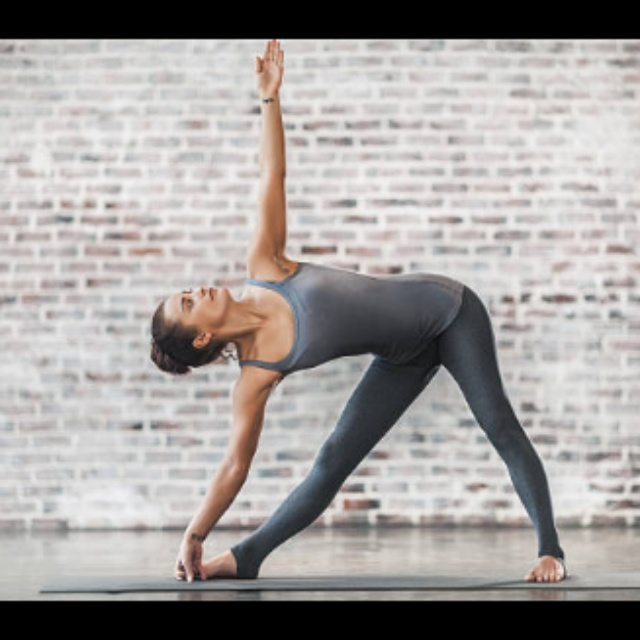Triangle_Pose: (143, 41, 578, 591)
